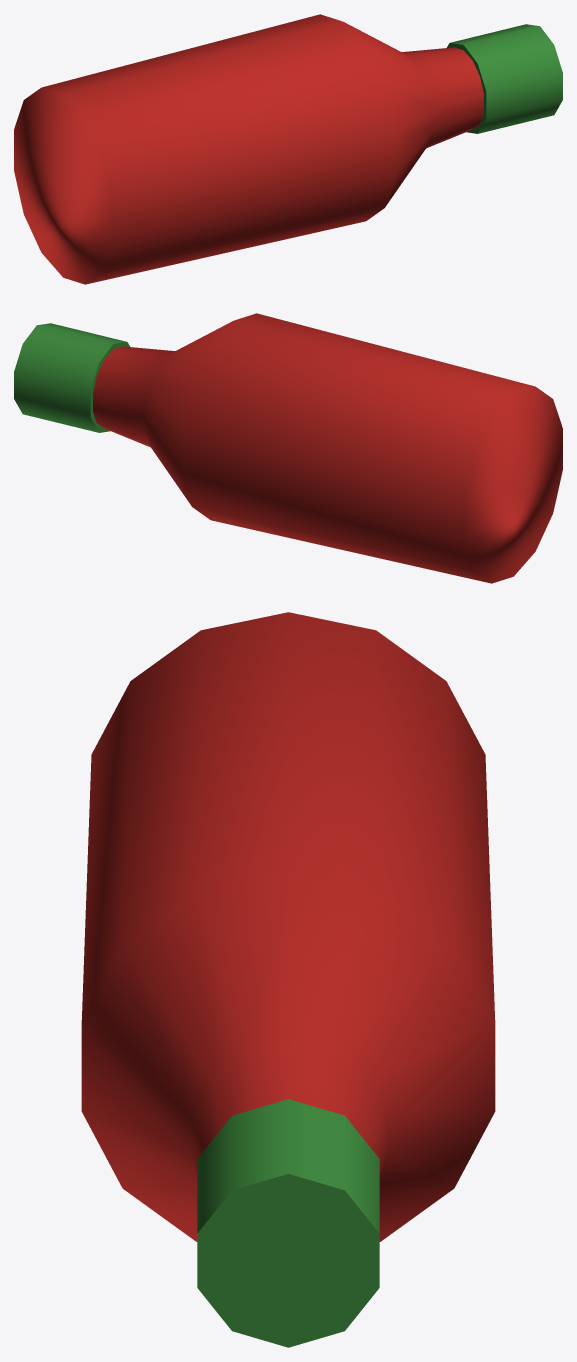
Rendered from item_ic_lost_hotsauce.glb.
3 views of the same model, one above another, from view 1: azimuth 30°, elevation 25°; view 2: azimuth 150°, elevation 25°; view 3: azimuth 270°, elevation 25° (orthographic). The views are drawn at different scales.
Parts seen in each view (by area): view 1: item_ic_lost_hotsauce_gloss, item_ic_lost_hotsauce_main; view 2: item_ic_lost_hotsauce_gloss, item_ic_lost_hotsauce_main; view 3: item_ic_lost_hotsauce_gloss, item_ic_lost_hotsauce_main.
Boxes of the visible parts, x1=… form: item_ic_lost_hotsauce_gloss: x1=14, y1=14, x2=483, y2=284; item_ic_lost_hotsauce_main: x1=447, y1=24, x2=562, y2=133; item_ic_lost_hotsauce_gloss: x1=93, y1=313, x2=562, y2=583; item_ic_lost_hotsauce_main: x1=14, y1=323, x2=129, y2=432; item_ic_lost_hotsauce_gloss: x1=81, y1=612, x2=495, y2=1241; item_ic_lost_hotsauce_main: x1=197, y1=1099, x2=379, y2=1347.
Size of the model in its own units: 0.22 by 0.084 by 0.0819.
